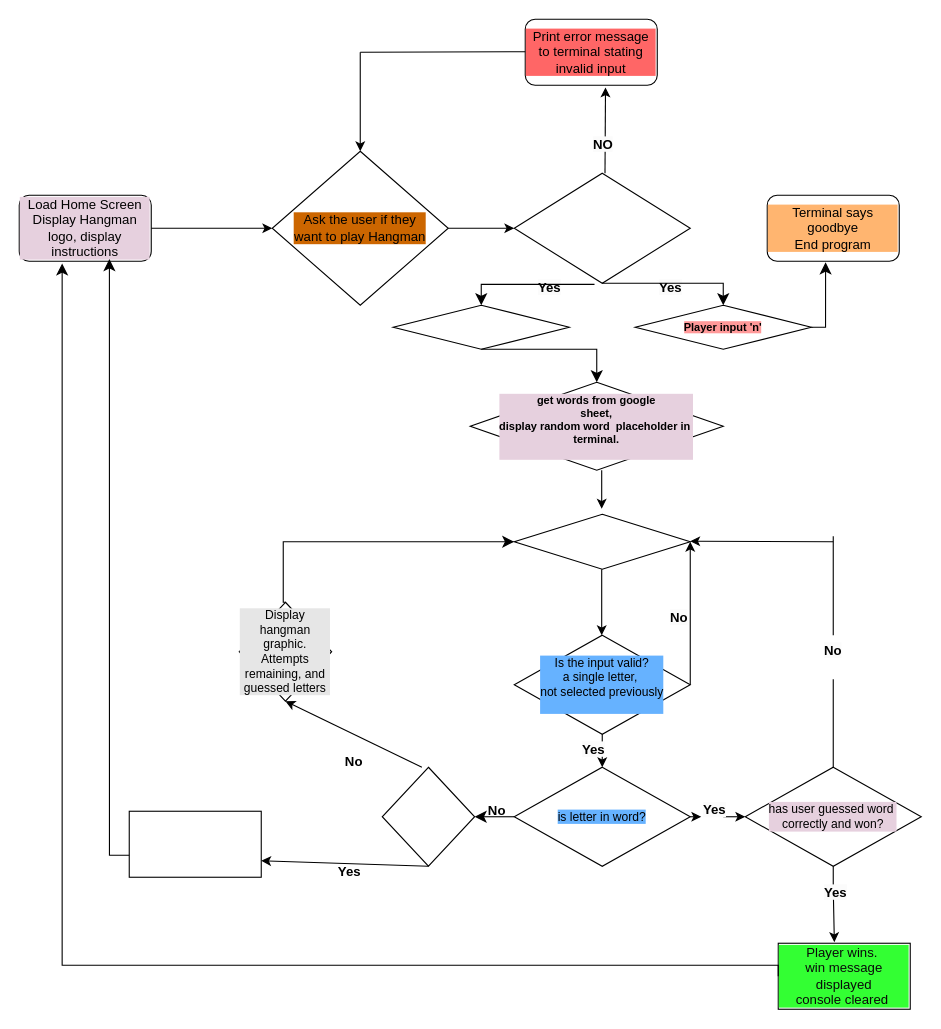
The diagram is 941 pixels wide and 1029 high, and some of its shapes have lost their labels. The shapes that lost their labels are listed below. From the top down, each one's centre as x and y in pixels, then its label:
pixel 601 227: Is the input valid? either 'y' or 'n'
pixel 480 326: Player input 'y'
pixel 601 541: Ask user to guess a letter
pixel 428 816: Has user run out of lives?
pixel 194 843: Full Hangman displayed, lose message displayed console cleared
